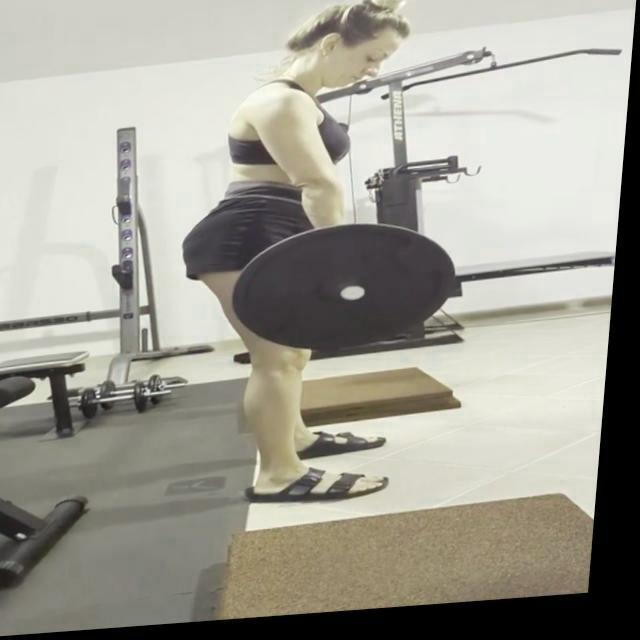barbell: (230, 220, 470, 365)
